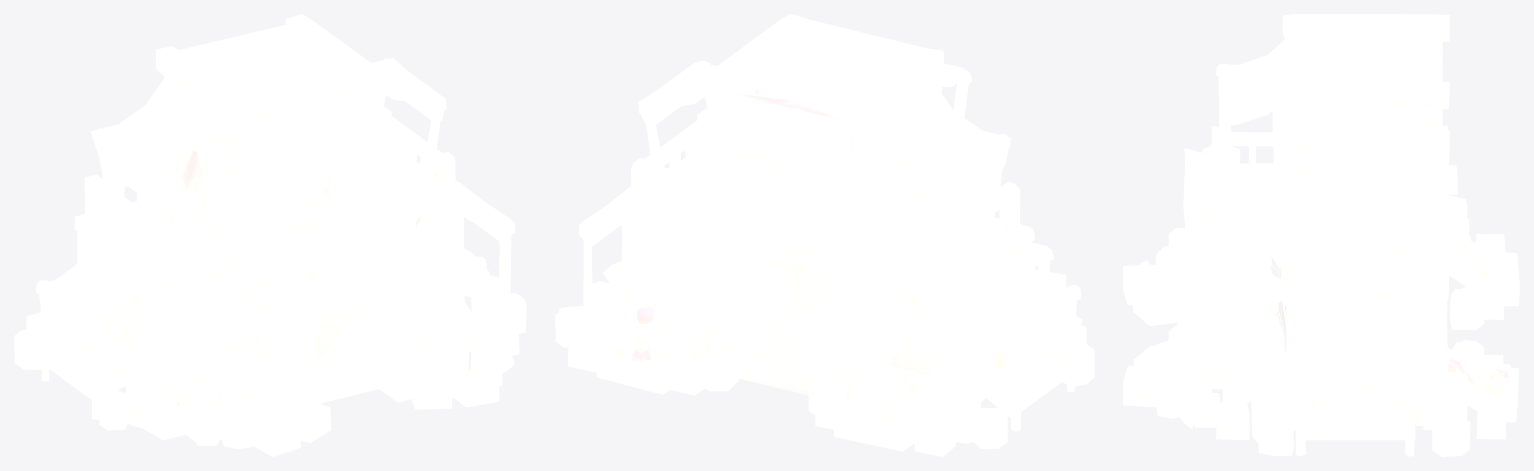
Rendered from mercado-madeira.glb.
3 renders of one model, left to right at view 1: azimuth 30°, elevation 25°; view 2: azimuth 150°, elevation 25°; view 3: azimuth 270°, elevation 25°, orthographic. The views are drawn at different scales.
Parts seen in each view (by area): view 1: mesh_node; view 2: mesh_node; view 3: mesh_node.
Part boxes in pixels (x1,y1,x2,y2): mesh_node: [14, 14, 526, 456]; mesh_node: [555, 14, 1094, 456]; mesh_node: [1123, 14, 1519, 456].
Bounding box in the file's own units: 1 × 0.6523 × 0.7832.
Materials: 1 (1 with a texture image).
